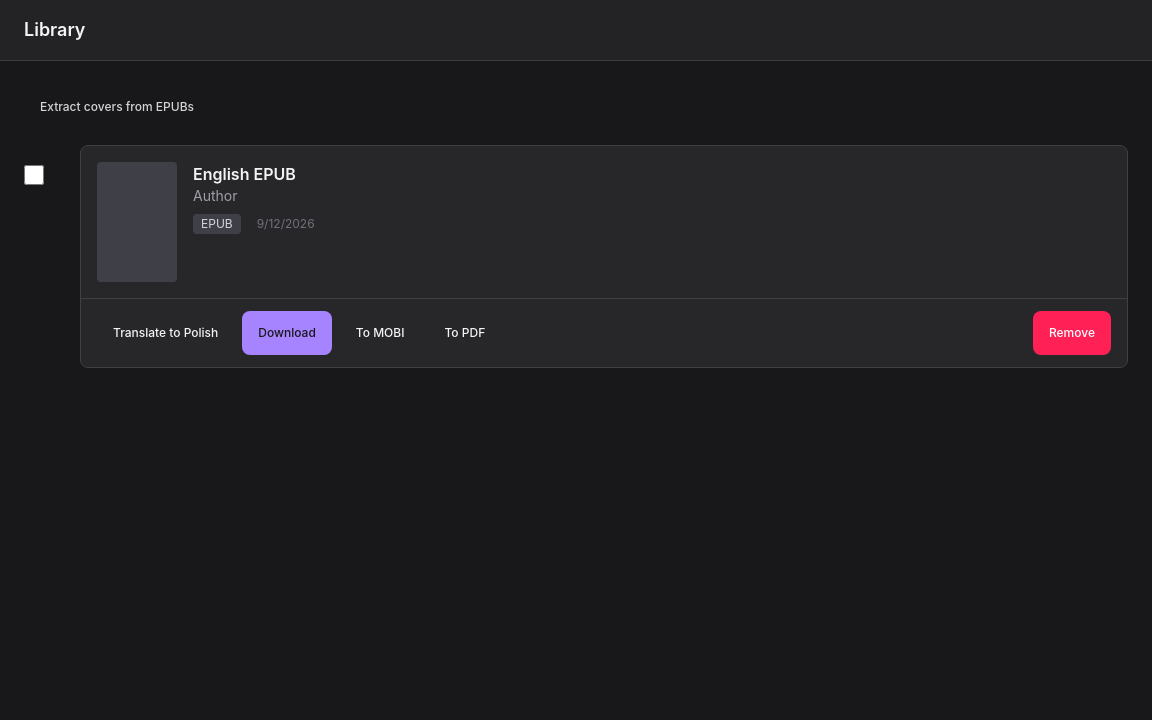
LibraryView translation integration › keeps start disabled when the estimate fails and supports retry
This screenshot has width=1152, height=720.
Click the button with test id "translate-btn" at (166, 333), box [97,311,234,355]
(page scrolled)
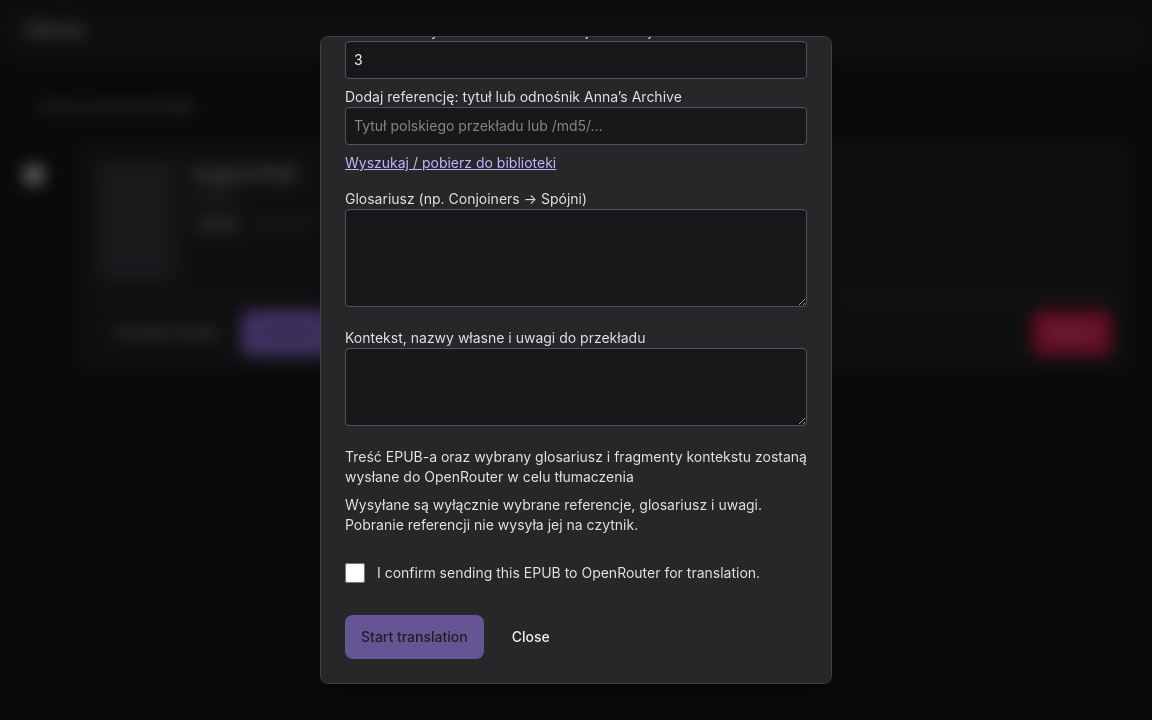
Click the checkbox with test id "external-processing-confirmation" at (355, 573), box [345,563,365,583]
(page scrolled)
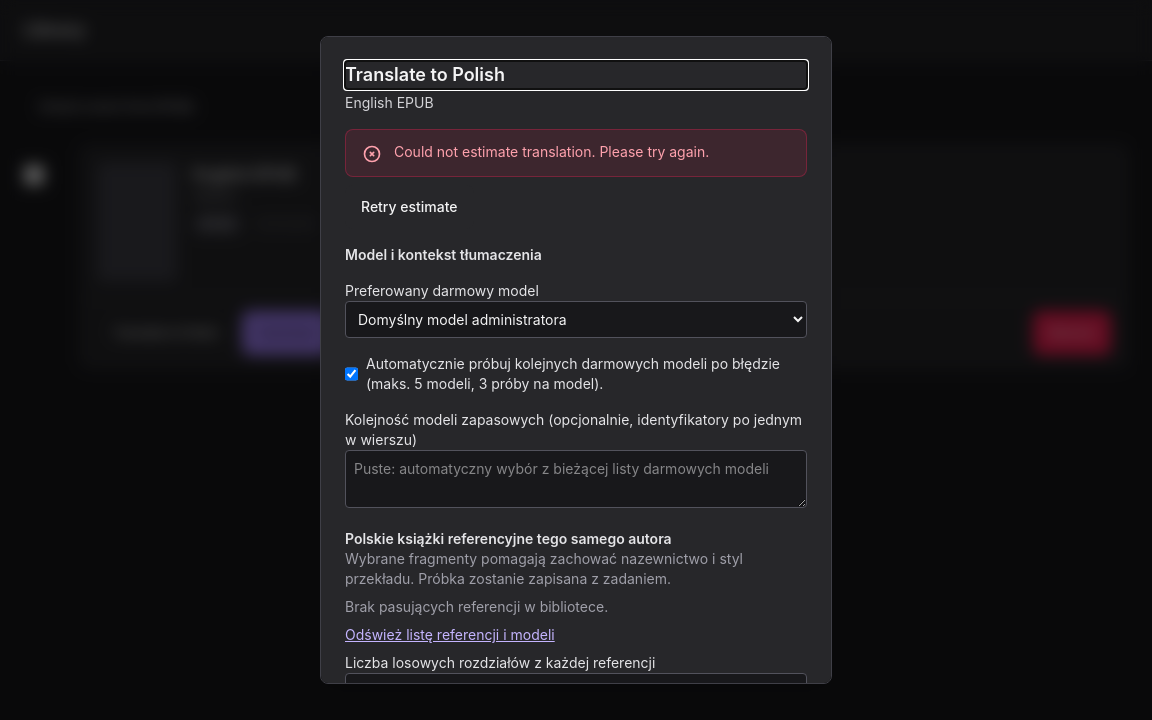
Click the button "Retry estimate" at (409, 207), box [345,185,474,229]
(page scrolled)
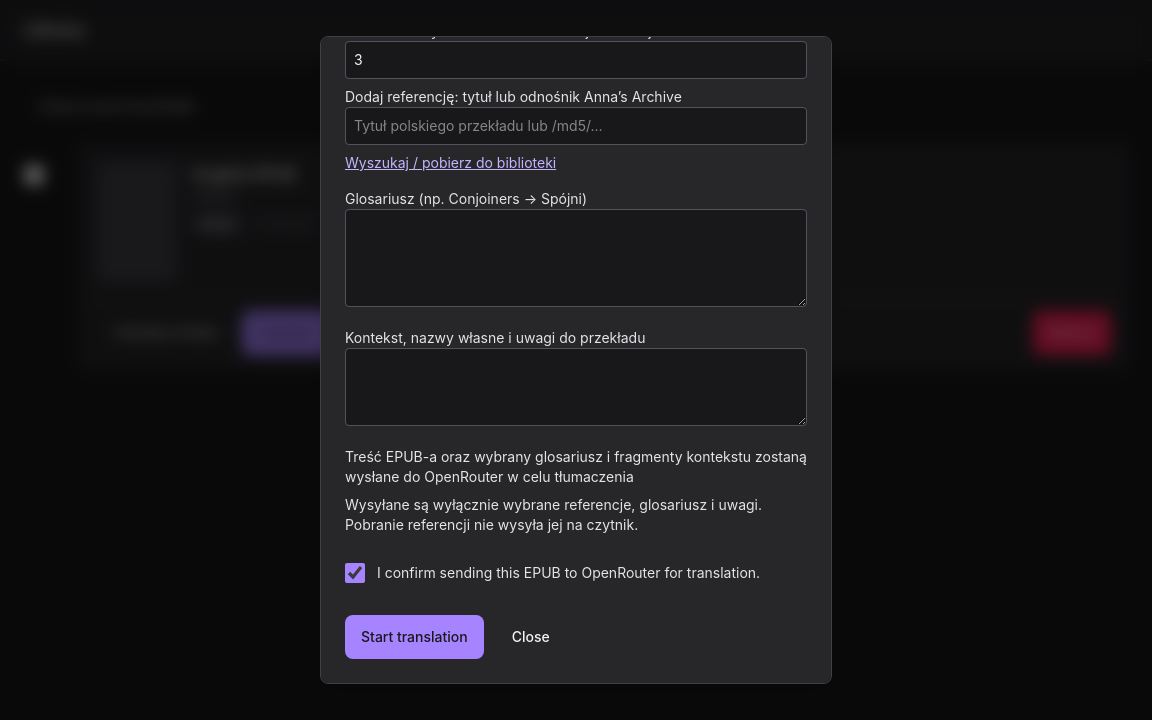
Expected: the button with test id "translation-start-btn" is enabled, [345,615,484,659]
